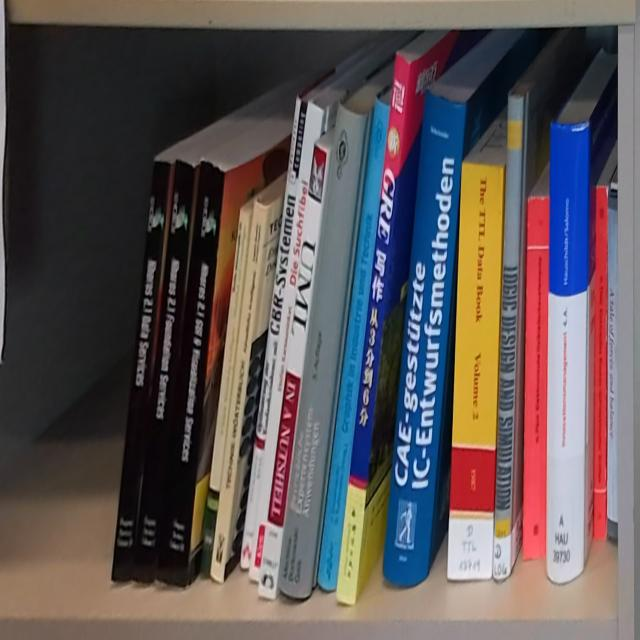Book Spine: (279, 103, 368, 599), (335, 52, 412, 606), (383, 91, 467, 588), (249, 104, 324, 583), (317, 99, 390, 590), (239, 99, 312, 571), (259, 144, 328, 602), (157, 161, 226, 589), (131, 159, 196, 584), (111, 159, 170, 584), (448, 163, 504, 580), (210, 202, 268, 586), (545, 123, 591, 585), (199, 207, 252, 578), (493, 97, 528, 581), (523, 198, 550, 561), (594, 185, 609, 540), (607, 192, 618, 543)
